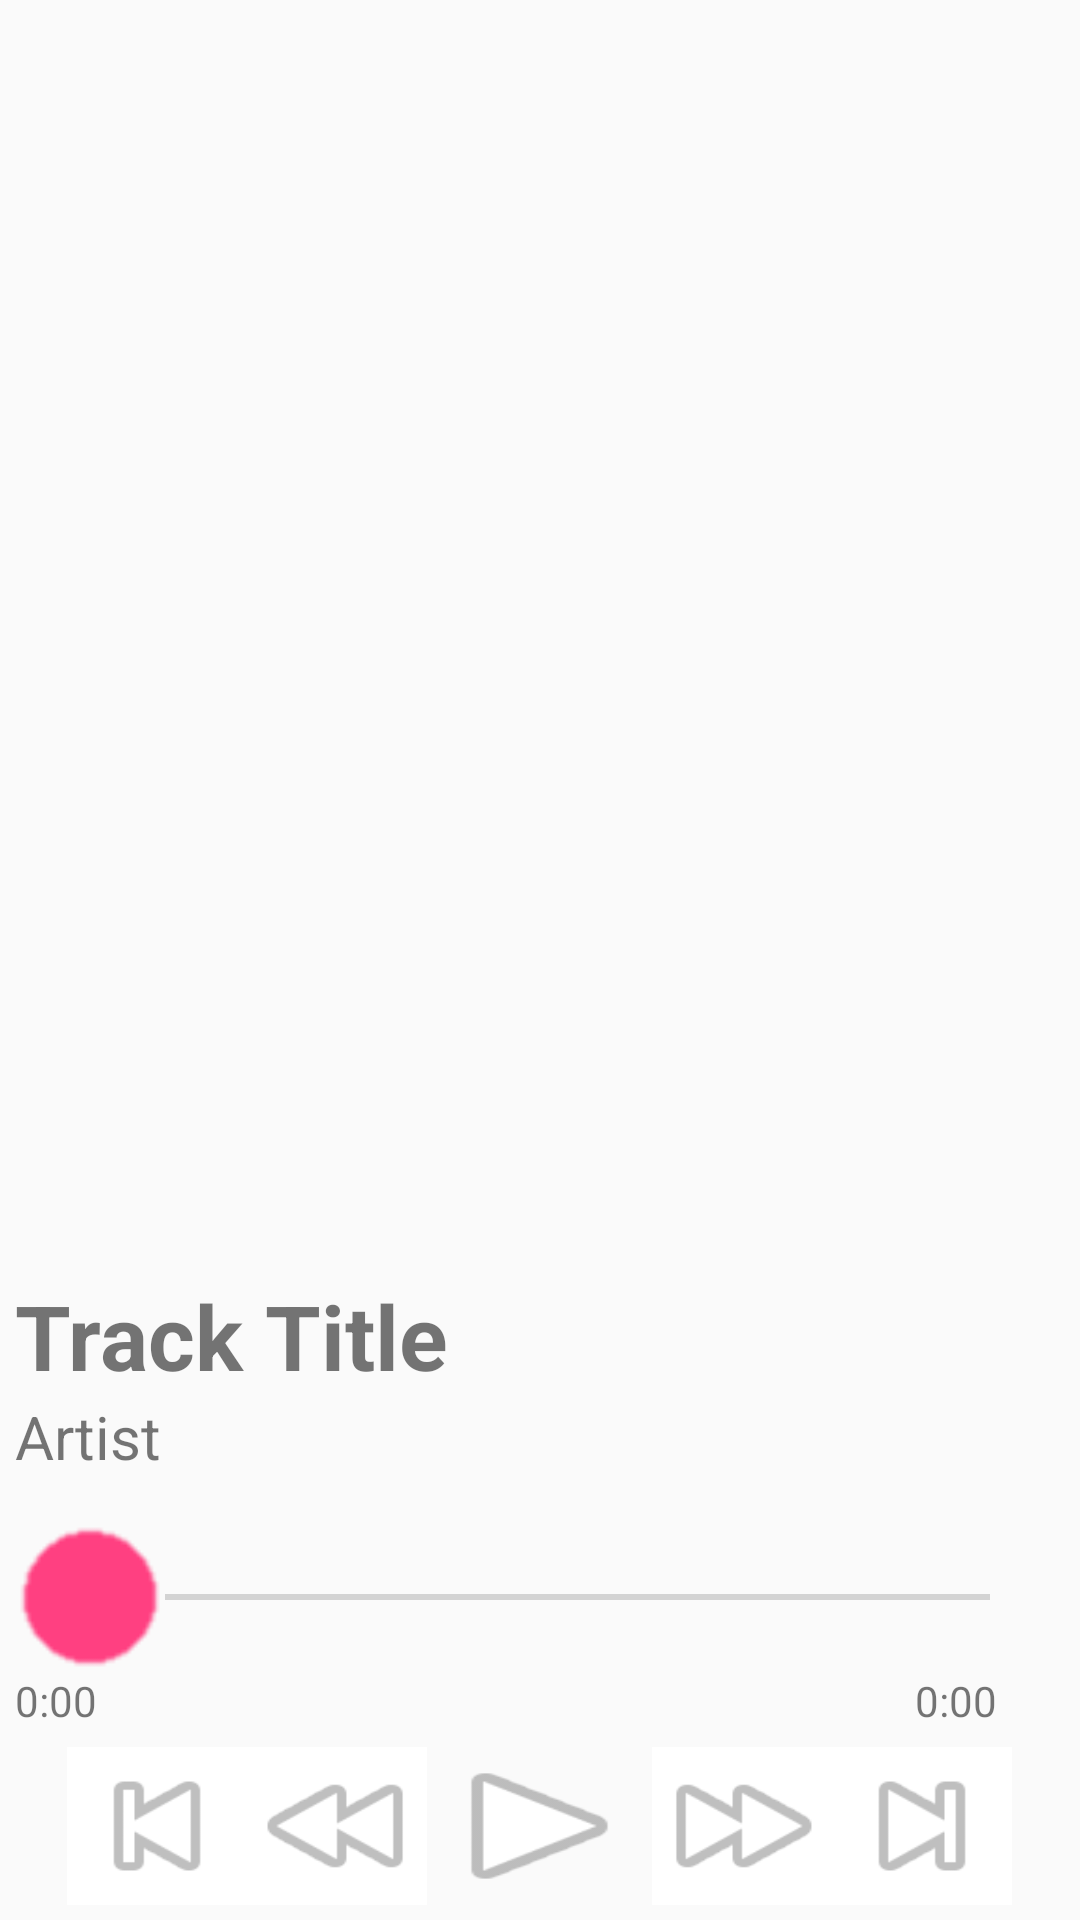

Screen size 1080px×1920px. Icon name, then its center in pixels as [x,y]:
next: [922,1826]
play pause: [539,1826]
previous: [157,1826]
rew: [335,1826]
